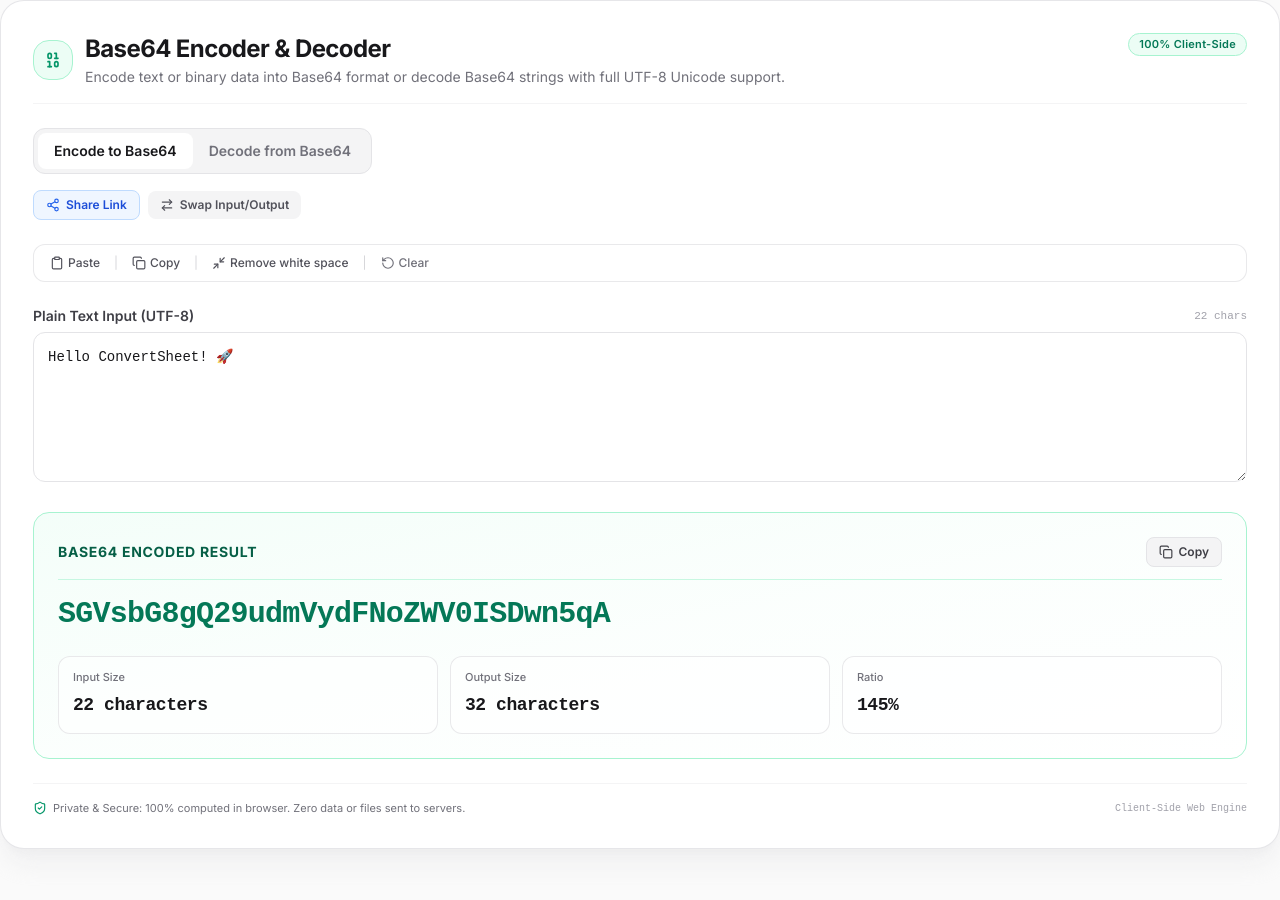
Test case: Data & Developer Tools Suite › Base64Tool encodes and decodes UTF-8 strings correctly
This screenshot has width=1280, height=900.
Check: the heading "Base64 Encoder & Decoder" is shown, box [85,34,390,63]
Replace the text in the text box labelled "Plain Text Input (UTF-8)" with "Hello" at (640, 407), box [33,332,1247,482]
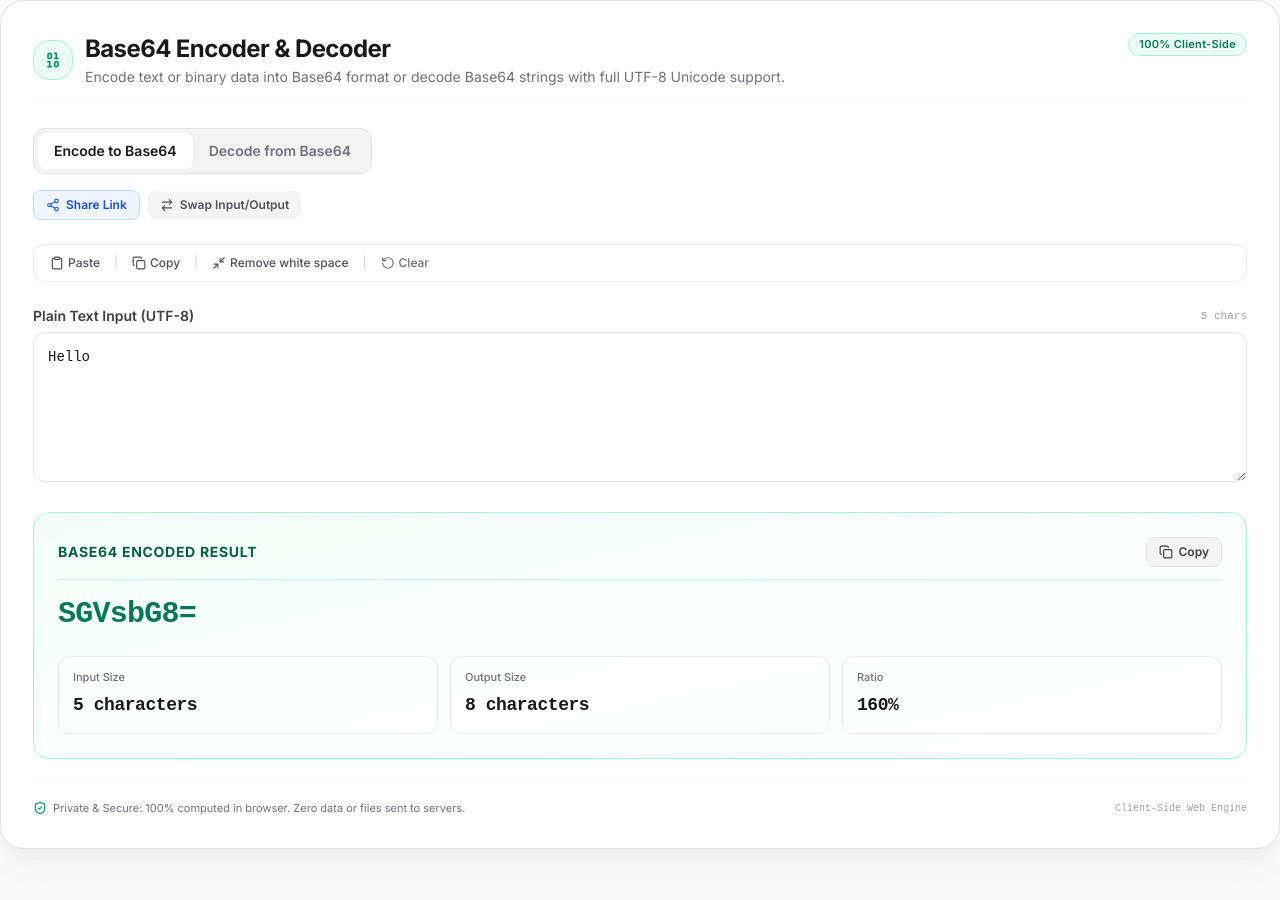
Check: the text "SGVsbG8=" is shown, box [58,597,196,631]
